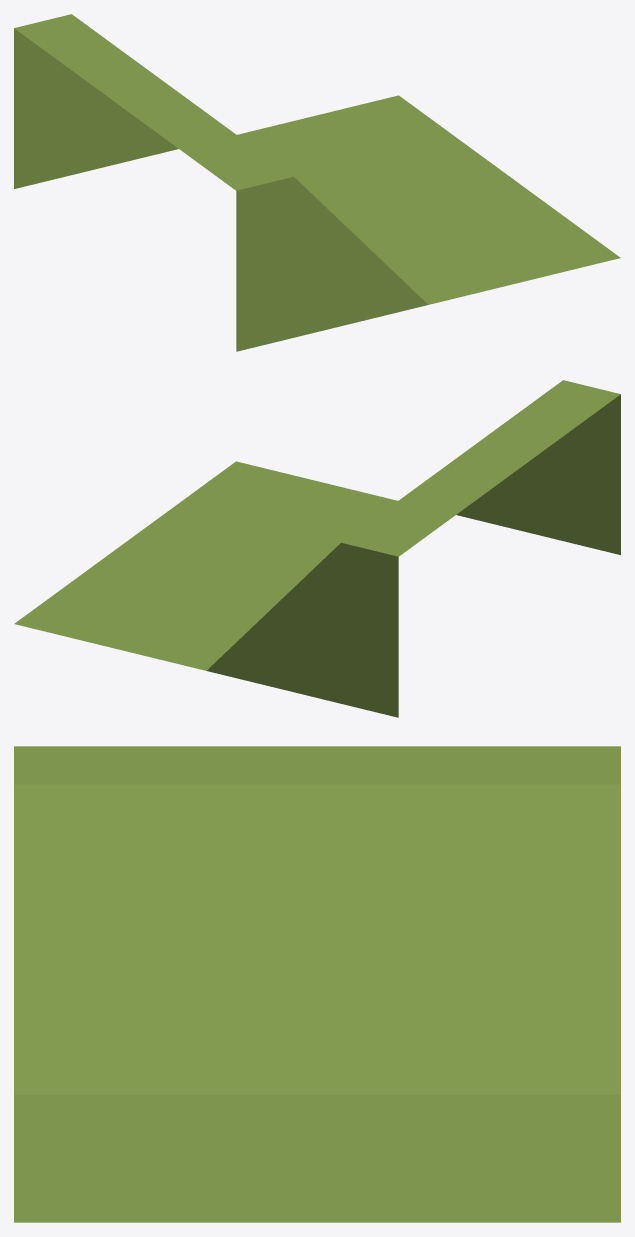
The model's file is grass-tile_04.fbx.
3 renders of one model, top to bottom at view 1: azimuth 30°, elevation 25°; view 2: azimuth 150°, elevation 25°; view 3: azimuth 270°, elevation 25°, orthographic. The views are drawn at different scales.
Parts seen in each view (by area): view 1: grass_title_06; view 2: grass_title_06; view 3: grass_title_06.
Part boxes in pixels (x1=…): grass_title_06: x1=14, y1=14, x2=620, y2=351; grass_title_06: x1=14, y1=380, x2=620, y2=717; grass_title_06: x1=14, y1=746, x2=620, y2=1222.
Bounding box in the file's own units: 1000 × 400 × 1000.
